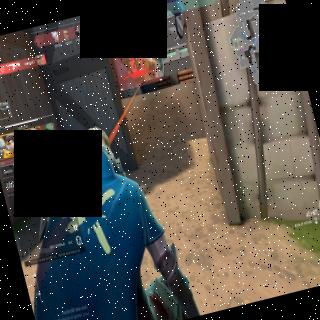ENEMY-HEAD: (138, 81, 140, 84)
